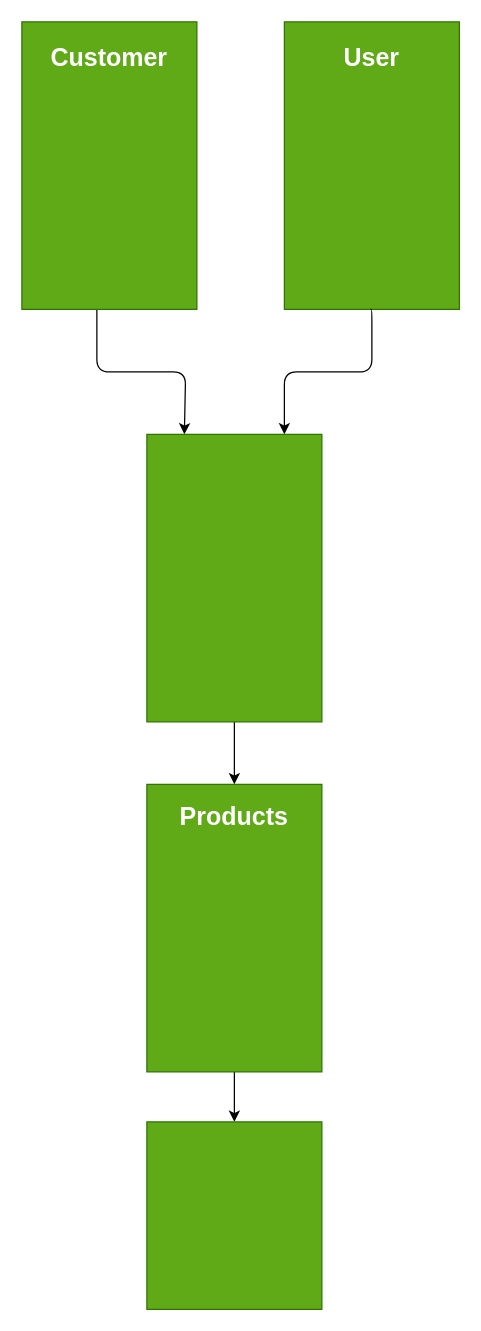
This 481x1331 diagram has some shape labels left out. The shapes that lost their labels are listed below. From the top down, each one's centre as x and y in pixels, then its label:
At pixel 234 577: "Transaction".
At pixel 234 1215: "Alert".
